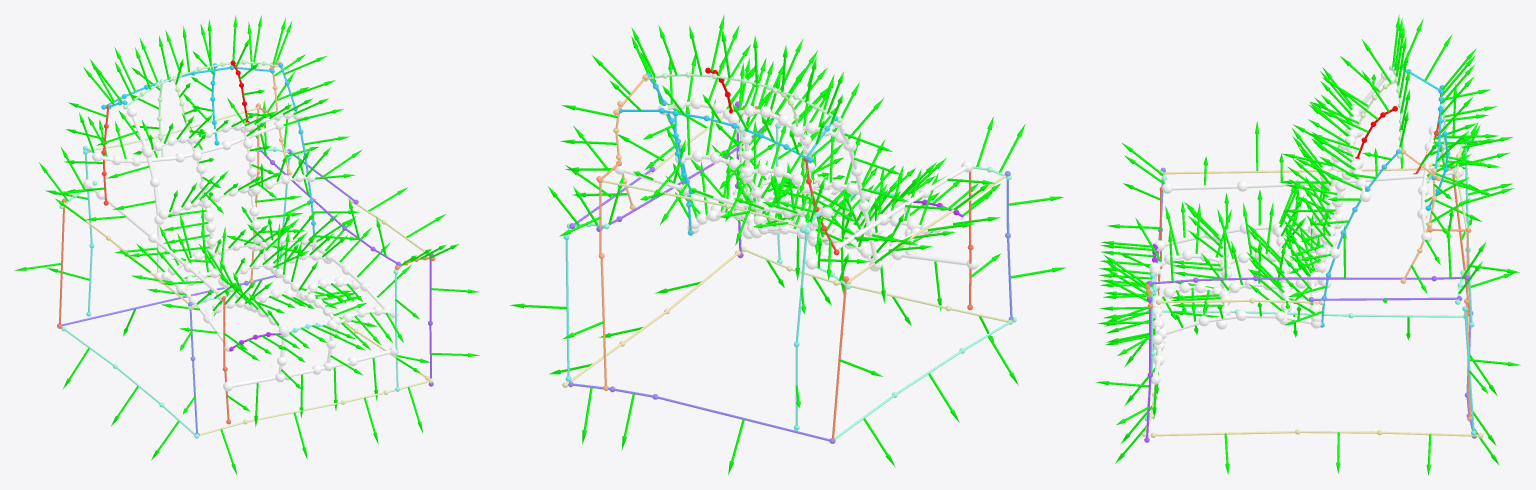
Rendered from author2_sofa.gltf.
The picture shows the model from 3 angles, left to right: view 1: azimuth 30°, elevation 25°; view 2: azimuth 150°, elevation 25°; view 3: azimuth 270°, elevation 25°; orthographic projection. The views are drawn at different scales.
Bounding box in the file's own units: 0.7176 × 0.7512 × 0.774.
